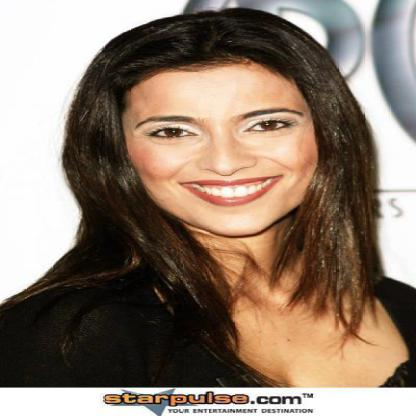long-hair: (43, 237, 392, 297)
